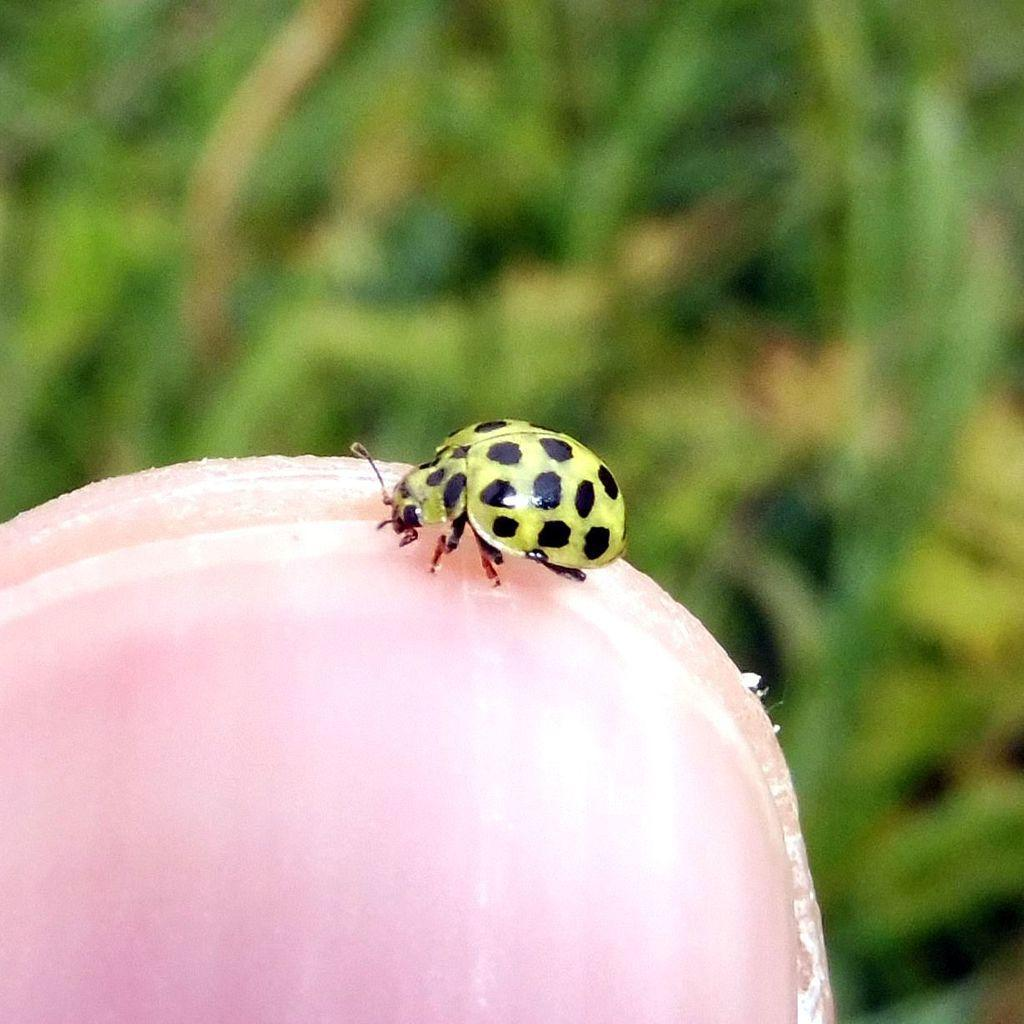ladybug: (344, 411, 636, 596)
